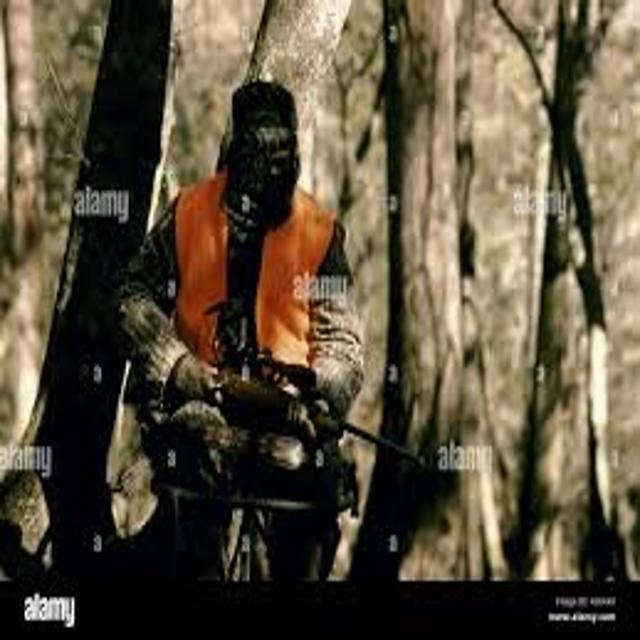gun: (90, 284, 446, 510)
poacher: (27, 53, 466, 579)
